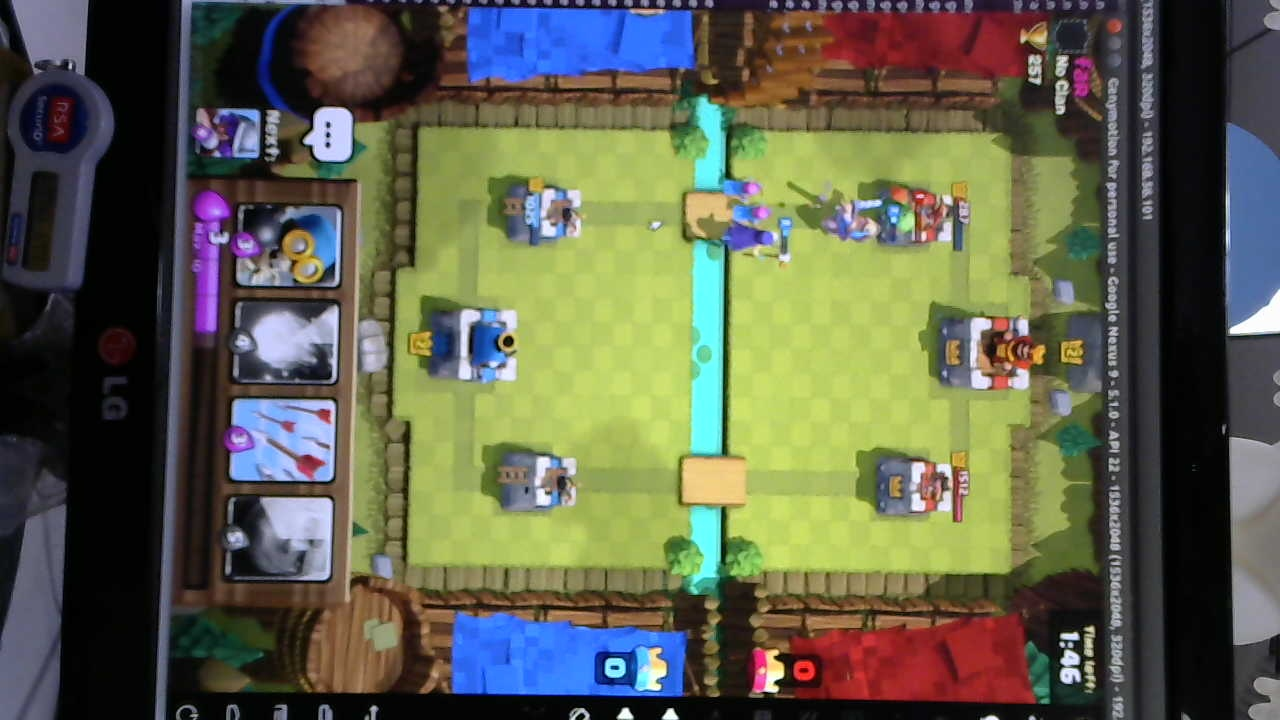archers: (718, 175, 774, 225)
arena: (492, 448, 583, 514), (503, 178, 588, 246)
dragon: (882, 188, 933, 241)
earena: (869, 454, 954, 519), (882, 188, 954, 247)
eking: (936, 308, 1042, 393)
king: (431, 304, 523, 387)
prince: (823, 199, 885, 245)
witch: (718, 220, 789, 260)
